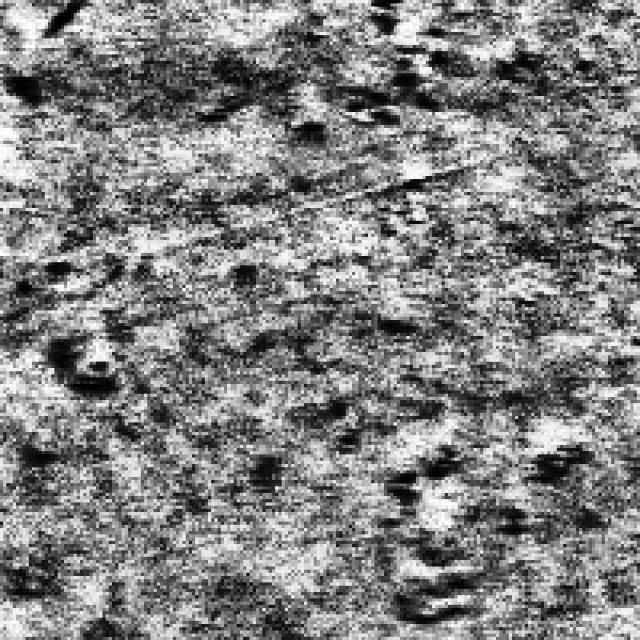Crazing: (282, 314, 588, 614), (195, 0, 563, 131), (0, 243, 141, 493)
